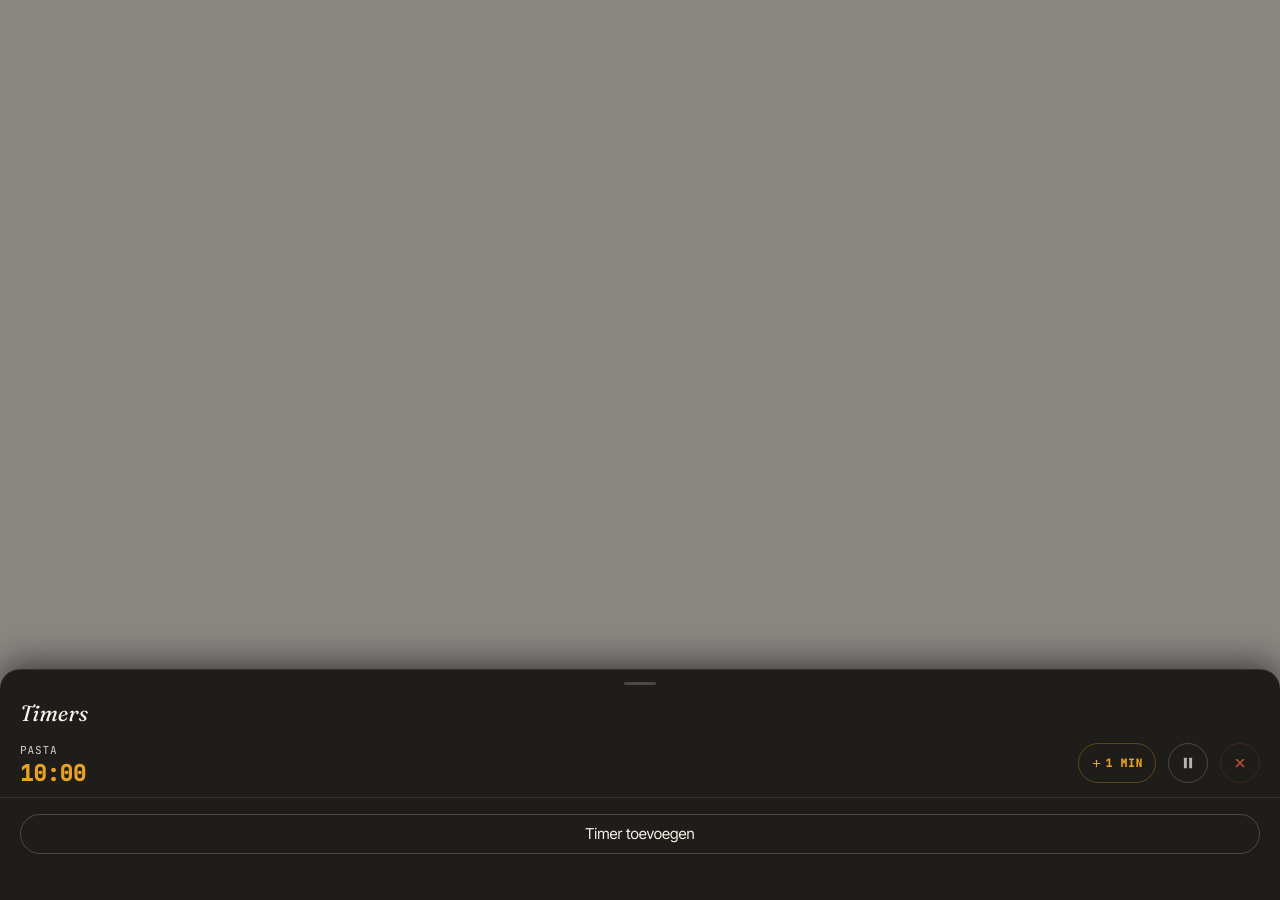
Test case: TimerSheet › dismiss › shows empty state after all timers are dismissed
The width and height of the screenshot is (1280, 900).
Click the button named "Timer verwijderen" at (1240,763), box x1=1220 y1=743 x2=1260 y2=783
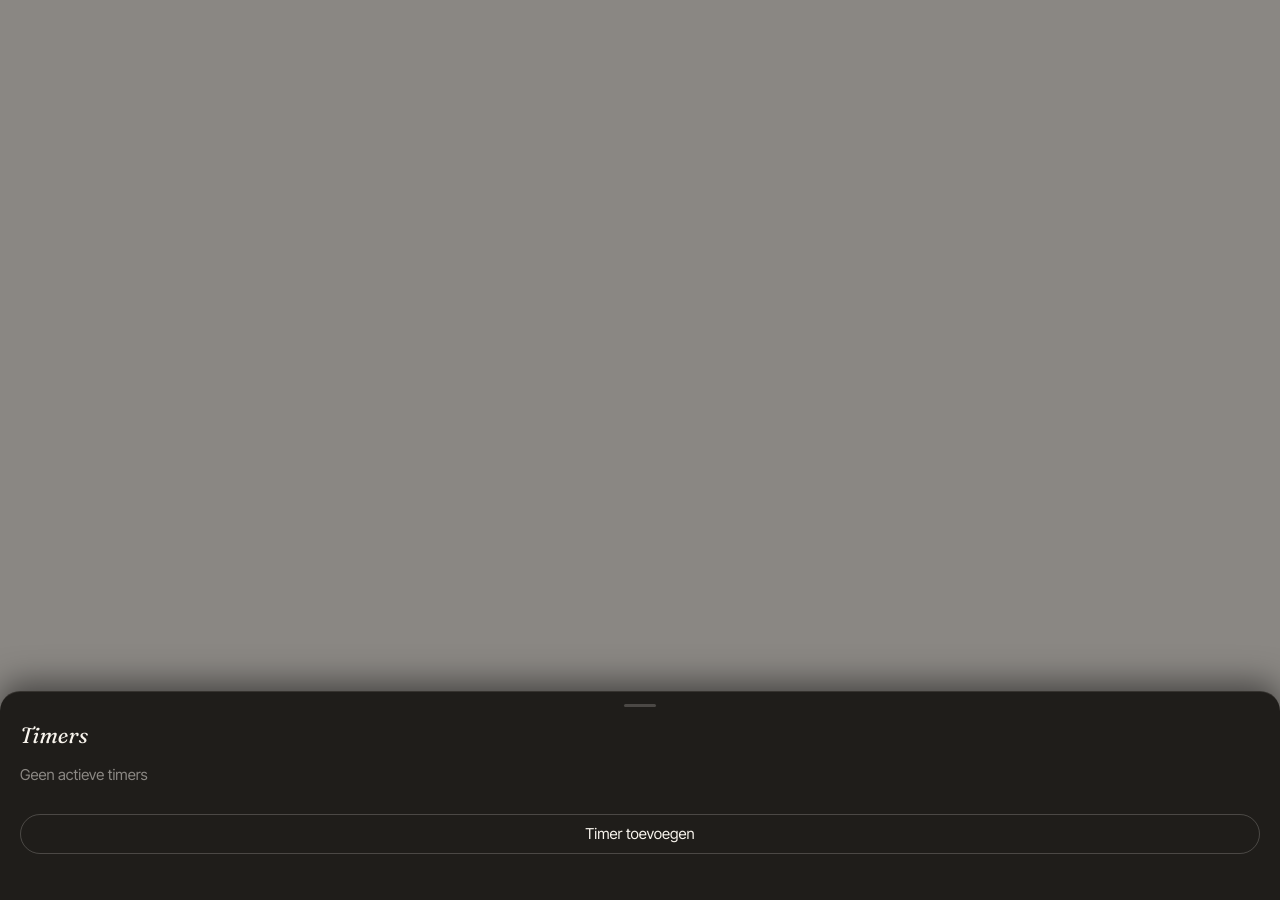
Now the text "Geen actieve timers" is shown, box x1=20 y1=764 x2=148 y2=784
